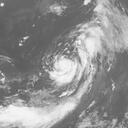cyclone: (41, 51, 84, 90)
